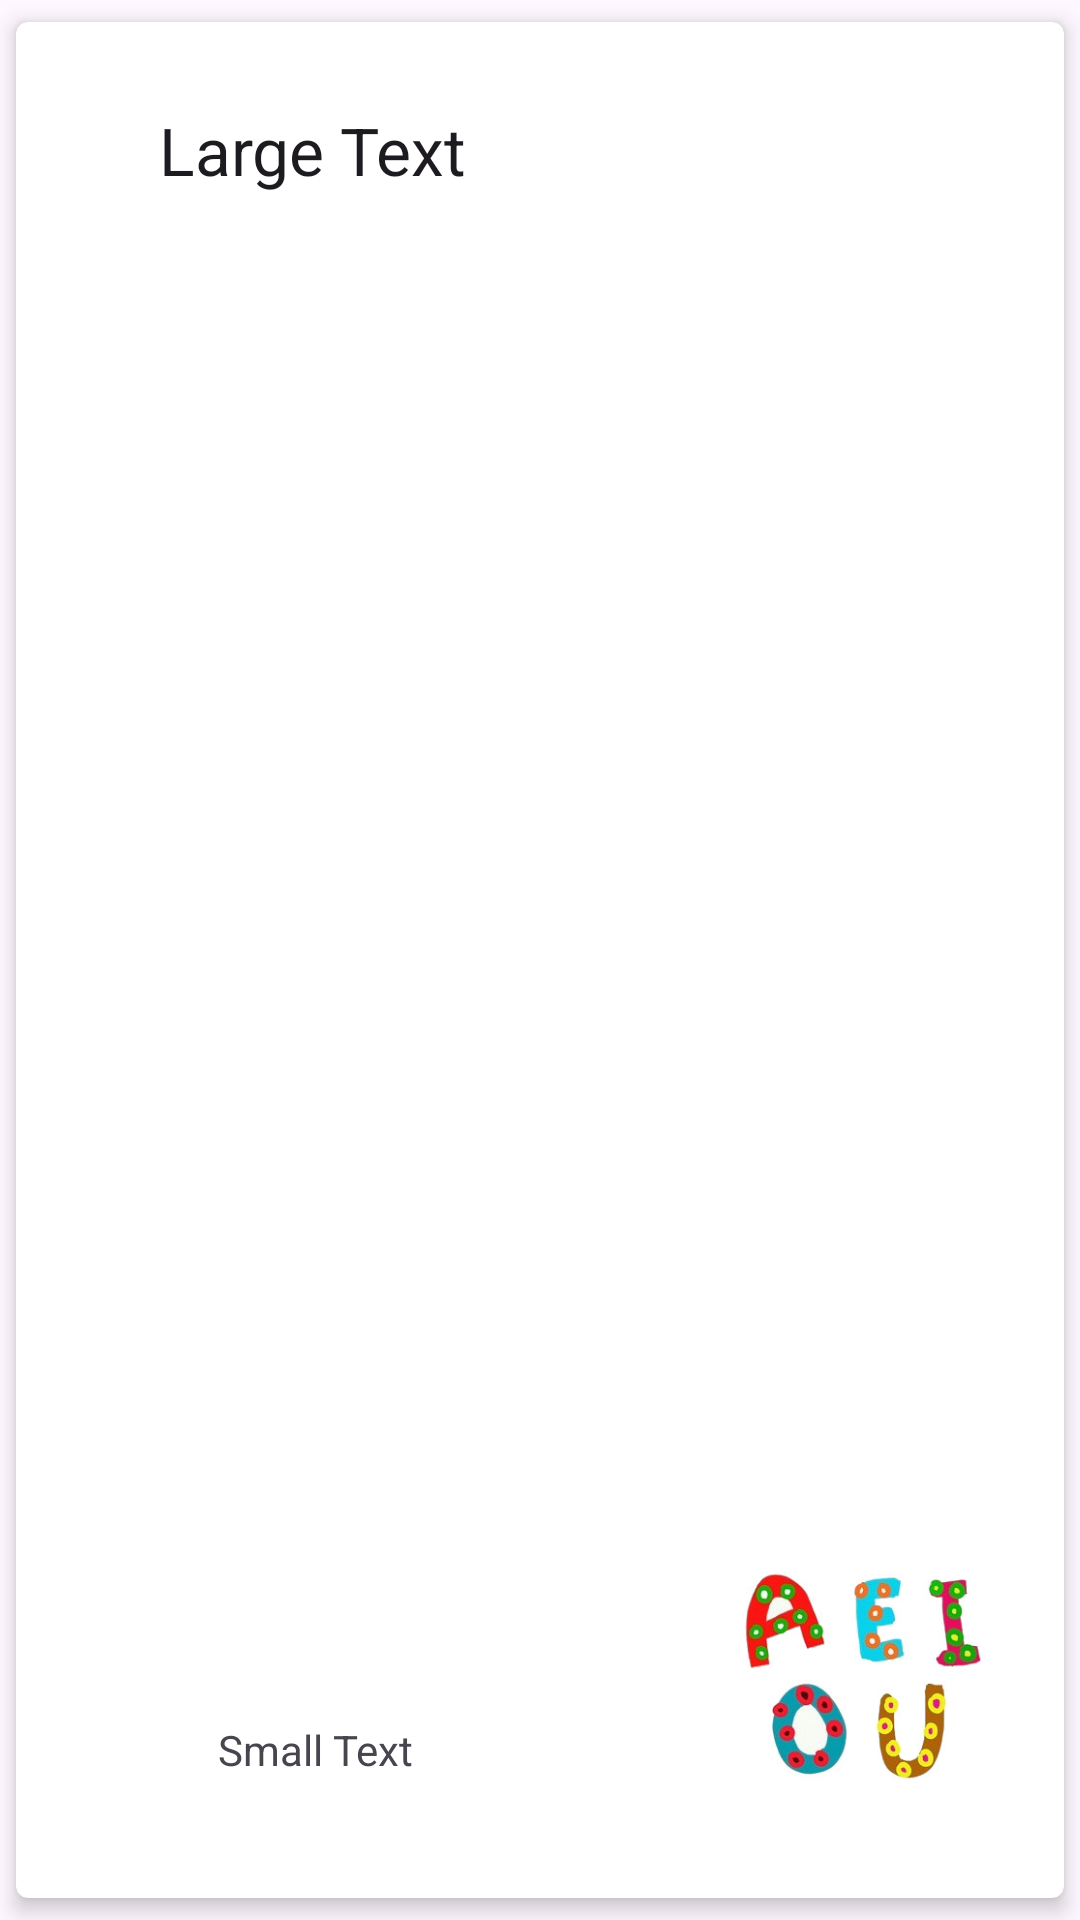

Where icons sit on this 1080 × 1920 app screen, as (x1, y1, x2, y2):
las vocales: (746, 1574, 981, 1779)
